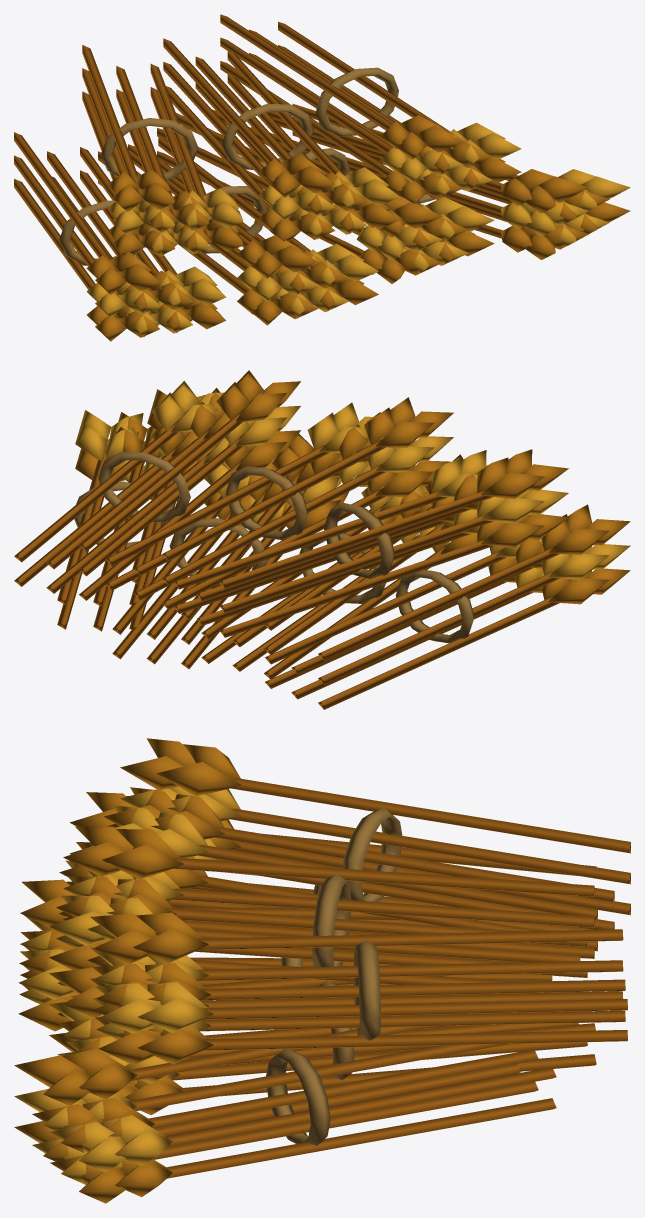
Rendered from pile-wheat-7.obj.
The picture shows the model from 3 angles, top to bottom: view 1: azimuth 30°, elevation 25°; view 2: azimuth 150°, elevation 25°; view 3: azimuth 270°, elevation 25°; orthographic projection. The views are drawn at different scales.
Parts seen in each view (by area): view 1: pile-wheat-7; view 2: pile-wheat-7; view 3: pile-wheat-7.
Boxes of the visible parts, x1,y1,x2,y2 form: pile-wheat-7: (14, 14, 630, 341); pile-wheat-7: (14, 370, 630, 709); pile-wheat-7: (14, 738, 630, 1203).
Bounding box in the file's own units: 0.7706 × 0.1898 × 0.5948.
Materials: 1 (1 with a texture image).
